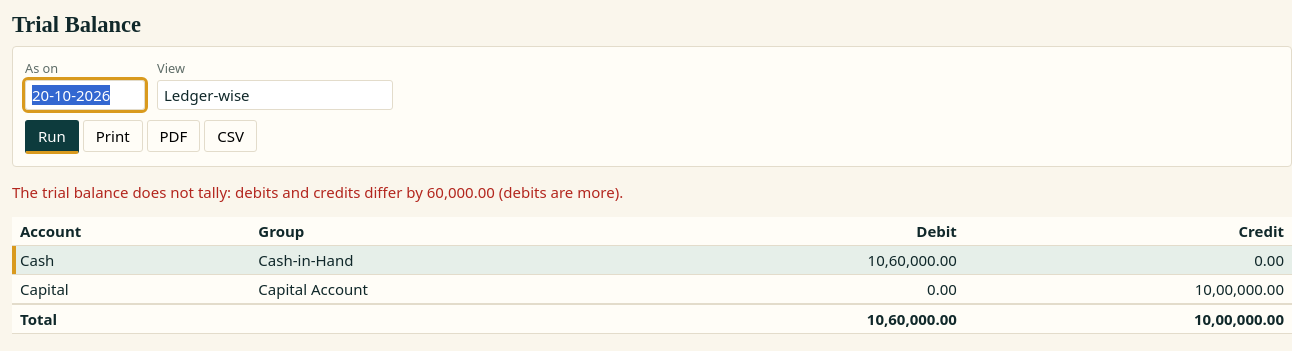
TrialBalanceReport › can be viewed group-wise
The image size is (1292, 351).
Expected: the table named "Trial balance" is shown, [12,217,1291,334]
Click the dropdown labelled "View": x=275, y=95 [157,80,393,110]
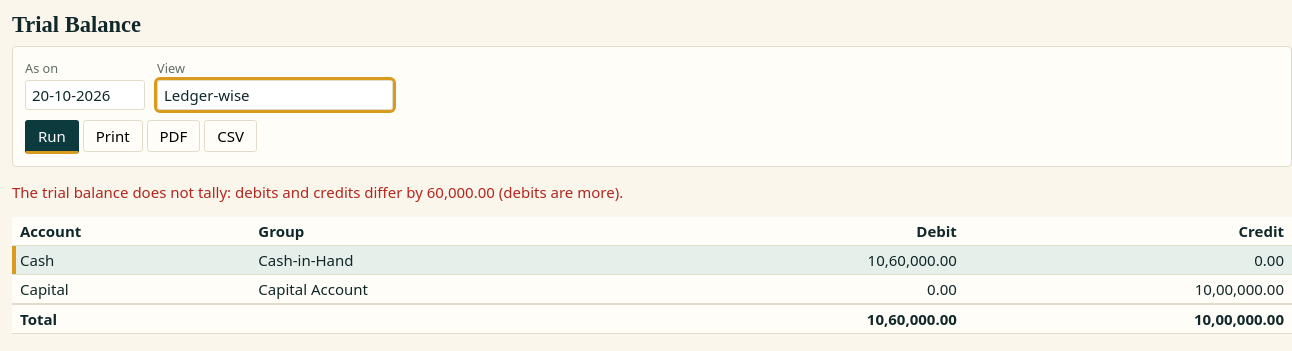
Type keys "group{Enter}"
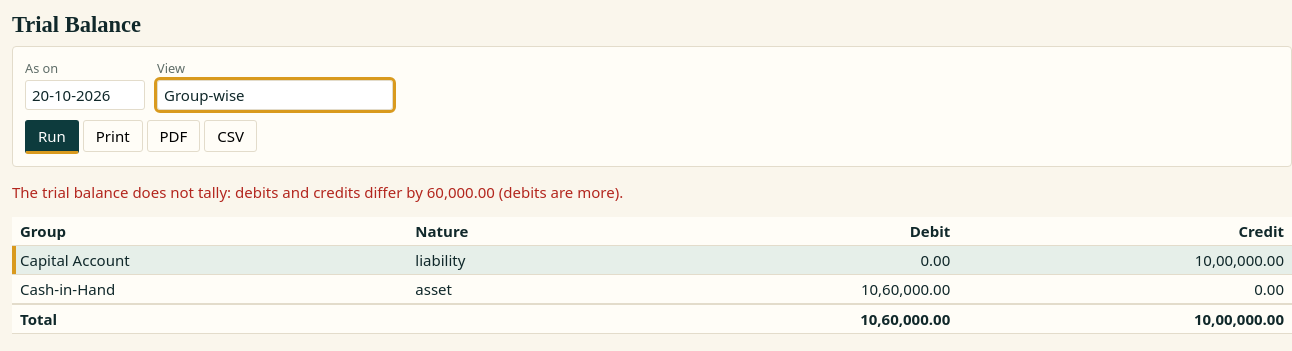
Now the text "Capital Account" is shown, box [12,246,407,274]
